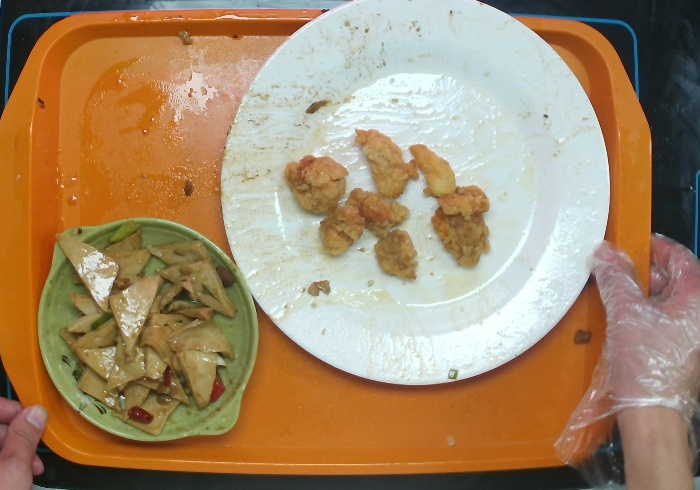NLDX-Da_Yuan_Pan: (219, 1, 616, 392)
NLDX-Lv_Hua_Shuang_Er_Die: (34, 209, 261, 447)
